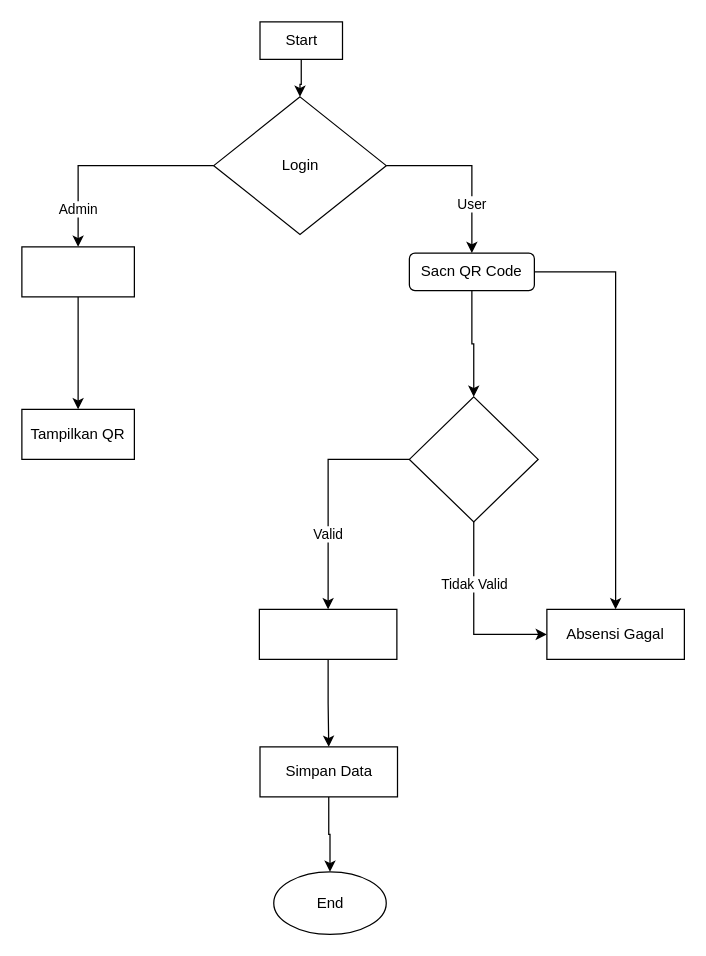
Image size: 706x956. Some labels were removed from this diagram. The box of each missing label's shape, as (x1, y1, x2, y2) in pixels:
Absensi Berhasil: (258, 608, 397, 659)
Registrasi: (21, 246, 134, 297)
Validasi QR: (408, 396, 538, 522)
